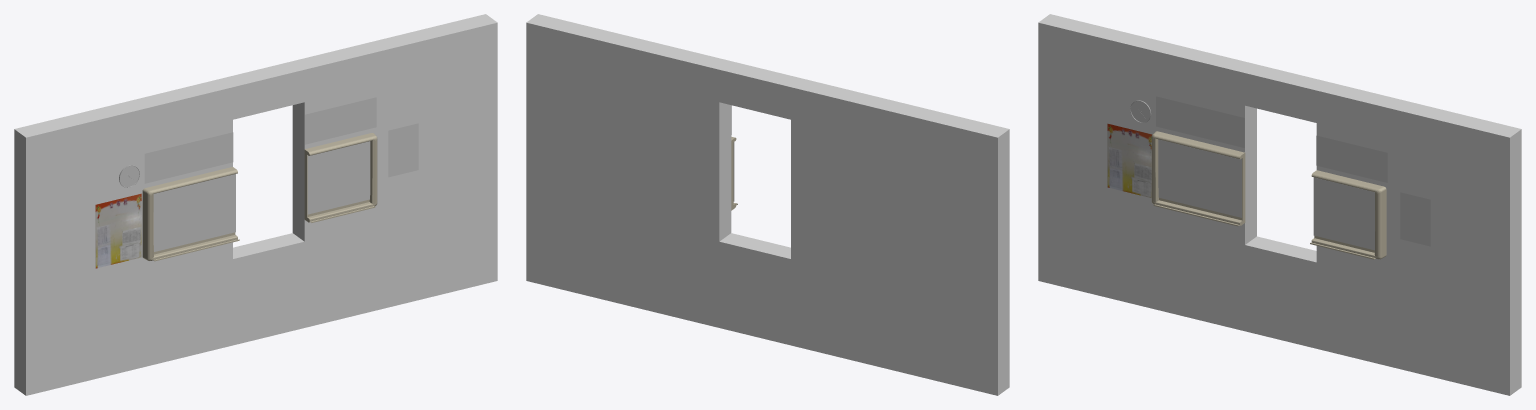
File: 黑板中间中间开口_001.fbx
3 renders of one model, left to right at view 1: azimuth 30°, elevation 25°; view 2: azimuth 150°, elevation 25°; view 3: azimuth 330°, elevation 25°, orthographic.
Parts seen in each view (by area): view 1: 立方体.059, 黑板, 五星旗, 公告栏, 预防溺水; view 2: 立方体.059; view 3: 立方体.059, 黑板, 五星旗, 公告栏, 预防溺水.
Part boxes in pixels (x1,y1,x2,y2): 立方体.059: (14, 14, 497, 395); 黑板: (142, 133, 377, 261); 五星旗: (144, 97, 376, 183); 公告栏: (95, 193, 141, 268); 预防溺水: (388, 123, 418, 177); 立方体.059: (526, 14, 1009, 395); 立方体.059: (1038, 14, 1521, 395); 黑板: (1151, 131, 1386, 259); 五星旗: (1156, 96, 1387, 182); 公告栏: (1107, 123, 1151, 197); 预防溺水: (1400, 192, 1430, 246).
Size of the model in its own units: 585 by 306 by 39.69.
